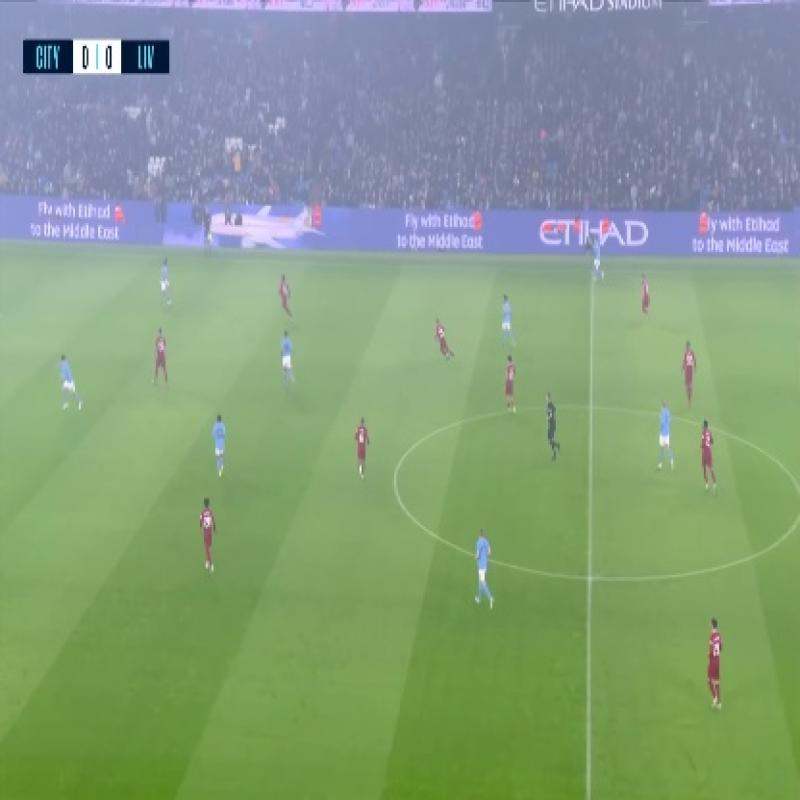13: (576, 259, 608, 285)
14: (577, 390, 604, 422)
15: (573, 558, 604, 594)
c: (380, 459, 408, 493)
